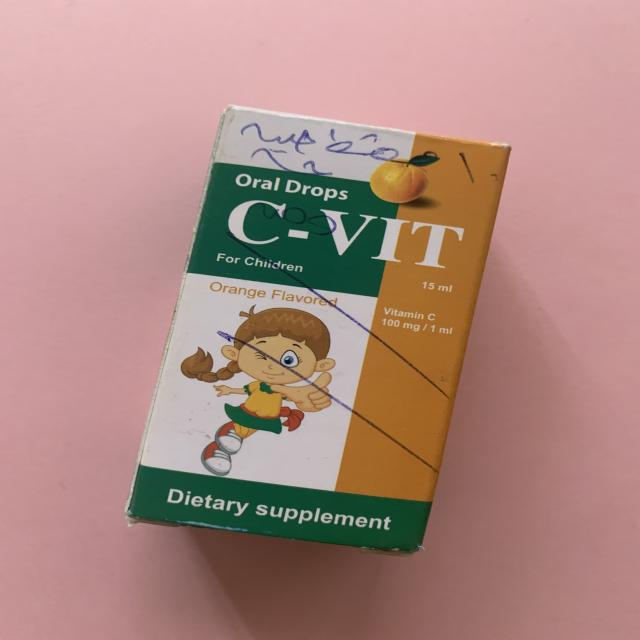C-VIT: (110, 100, 518, 567)
